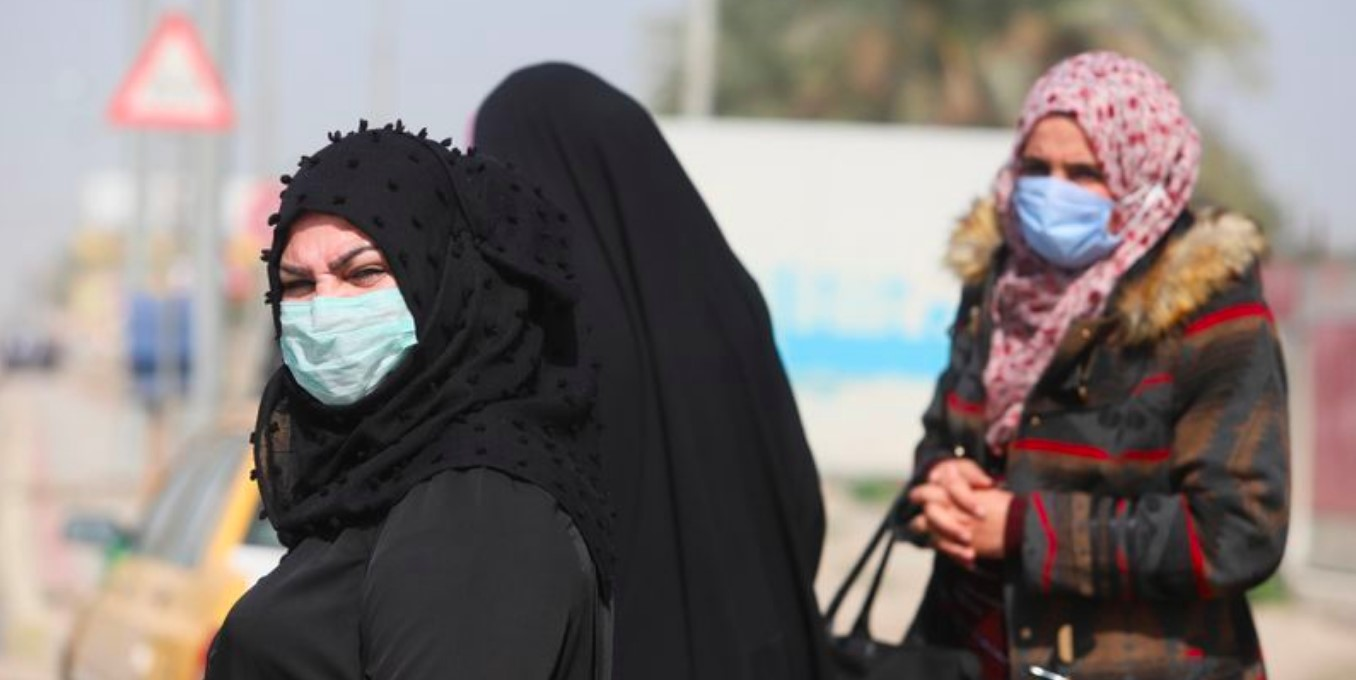face_with_mask: (263, 121, 486, 419), (1011, 53, 1201, 263)
